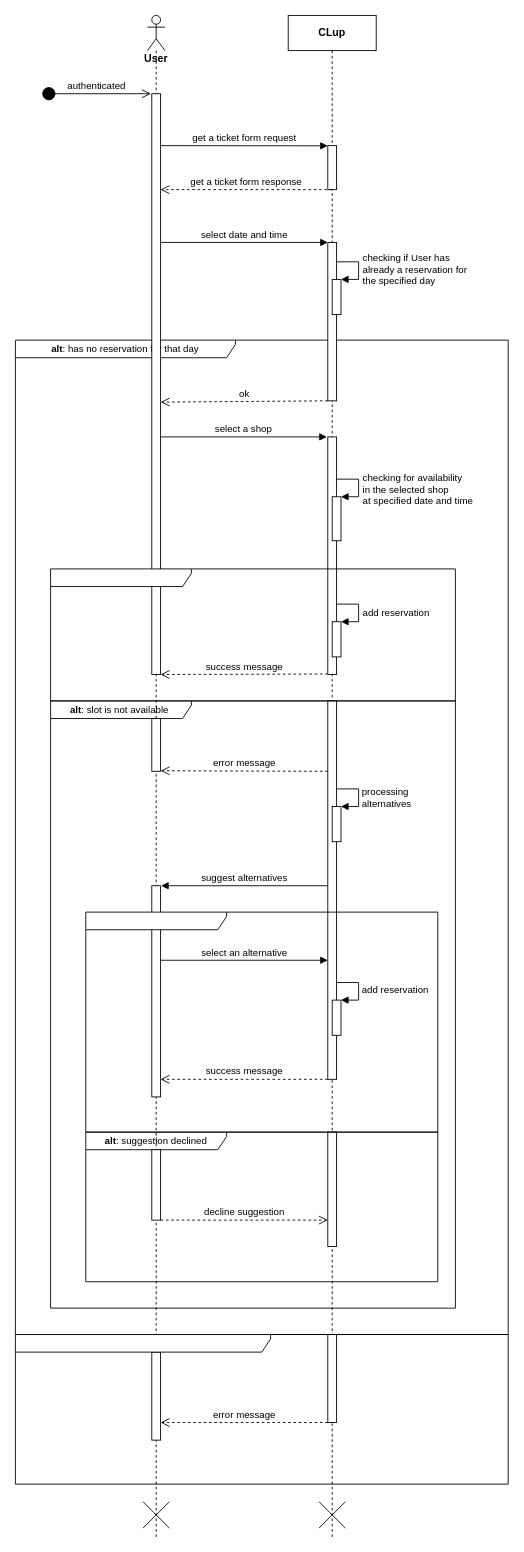
Image size: 524x1552. Some labels were removed from this diagram. Each missing label, with the box of its shape:
alt : slot available: (50, 568, 455, 701)
alt : suggestion accepted: (85, 911, 438, 1132)
alt: has already a reservation for that day: (15, 1334, 508, 1484)
